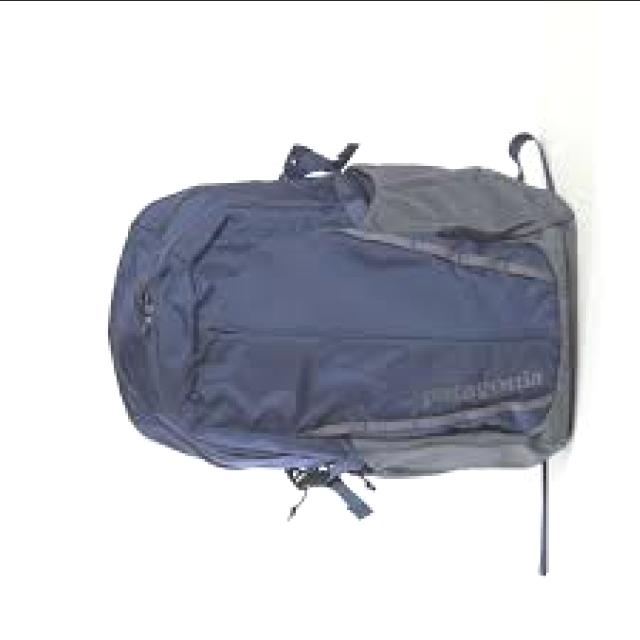backpack: (106, 132, 576, 578)
